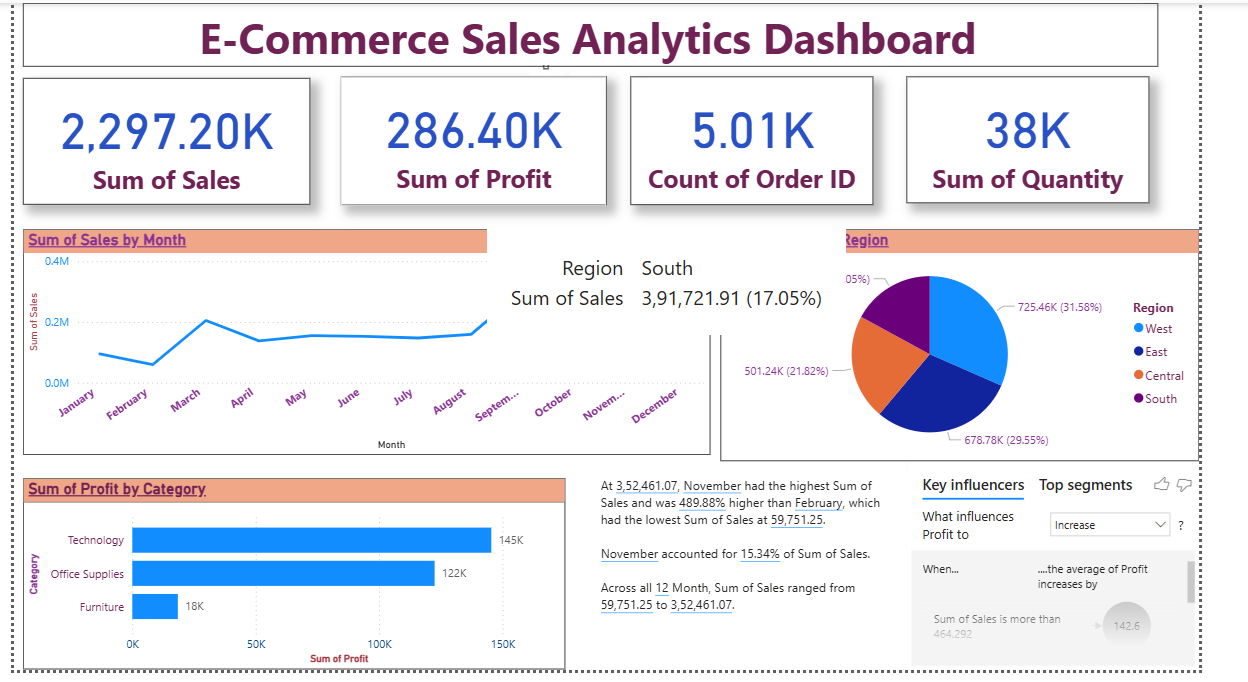

The page's visual inventory and layout, read from the dashboard file:
{"tool":"powerbi","page":{"name":"Page 1","canvas":[1280,720],"ordinal":0},"visuals":[{"type":"card","fields":{"Values":["Sum(cleaned_ecommerce_data.Sales)"]},"box":[10,0,310,136],"z":0},{"type":"card","fields":{"Values":["Sum(cleaned_ecommerce_data.Profit)"]},"box":[341.2,0,287.5,137.5],"z":1},{"type":"card","fields":{"Values":["Sum(cleaned_ecommerce_data.Quantity)"]},"box":[931.2,0,262.5,136.2],"z":2},{"type":"lineChart","fields":{"Category":["cleaned_ecommerce_data.Order Date.Variation.Date Hierarchy.Month"],"Y":["Sum(cleaned_ecommerce_data.Sales)"]},"box":[10,158.8,741.2,330],"z":4},{"type":"pieChart","fields":{"Category":["cleaned_ecommerce_data.Region"],"Y":["Sum(cleaned_ecommerce_data.Sales)"]},"box":[763.8,158.8,516.2,336.2],"z":5},{"type":"clusteredBarChart","fields":{"Category":["cleaned_ecommerce_data.Category"],"Y":["Sum(cleaned_ecommerce_data.Profit)"]},"box":[10,513.8,585,206.2],"z":6},{"type":"card","fields":{"Values":["Count(cleaned_ecommerce_data.Order ID)"]},"box":[652.5,0,262.5,137.5],"z":7},{"type":"keyDriversVisual","fields":{"Target":["cleaned_ecommerce_data.Profit"],"ExplainBy":["cleaned_ecommerce_data.Category","cleaned_ecommerce_data.Region","Sum(cleaned_ecommerce_data.Discount)","Sum(cleaned_ecommerce_data.Quantity)","Sum(cleaned_ecommerce_data.Sales)"]},"box":[963.8,495,316.2,225],"z":8},{"type":"textbox","box":[628.8,505,335,215],"z":9}]}

Visuals, with their boxes in screenshot pixels (x1, y1, x2, y2), scaled from the page's 1280x720 canvas onto the 1248x682 screenshot:
card - Sum(cleaned_ecommerce_data.Sales): 10 0 312 129
card - Sum(cleaned_ecommerce_data.Profit): 333 0 613 130
card - Sum(cleaned_ecommerce_data.Quantity): 908 0 1164 129
lineChart - cleaned_ecommerce_data.Order Date.Variation.Date Hierarchy.Month x Sum(cleaned_ecommerce_data.Sales): 10 150 732 463
pieChart - cleaned_ecommerce_data.Region x Sum(cleaned_ecommerce_data.Sales): 745 150 1247 469
clusteredBarChart - cleaned_ecommerce_data.Category x Sum(cleaned_ecommerce_data.Profit): 10 487 580 681
card - Count(cleaned_ecommerce_data.Order ID): 636 0 892 130
keyDriversVisual - cleaned_ecommerce_data.Profit x cleaned_ecommerce_data.Category: 940 469 1247 681
textbox: 613 478 940 681
